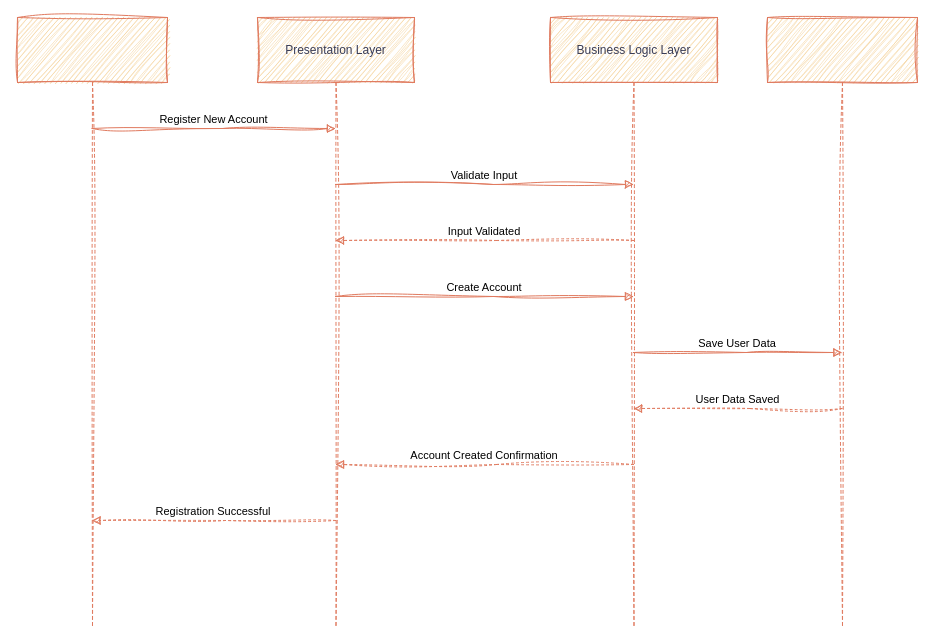
This 935x643 diagram has some shape labels left out. The shapes that lost their labels are listed below. From the top down, each one's box as (x1, y1, x2, y2) in pixels, then its label:
(16, 16, 168, 626): User
(766, 16, 918, 626): Persistence Layer
